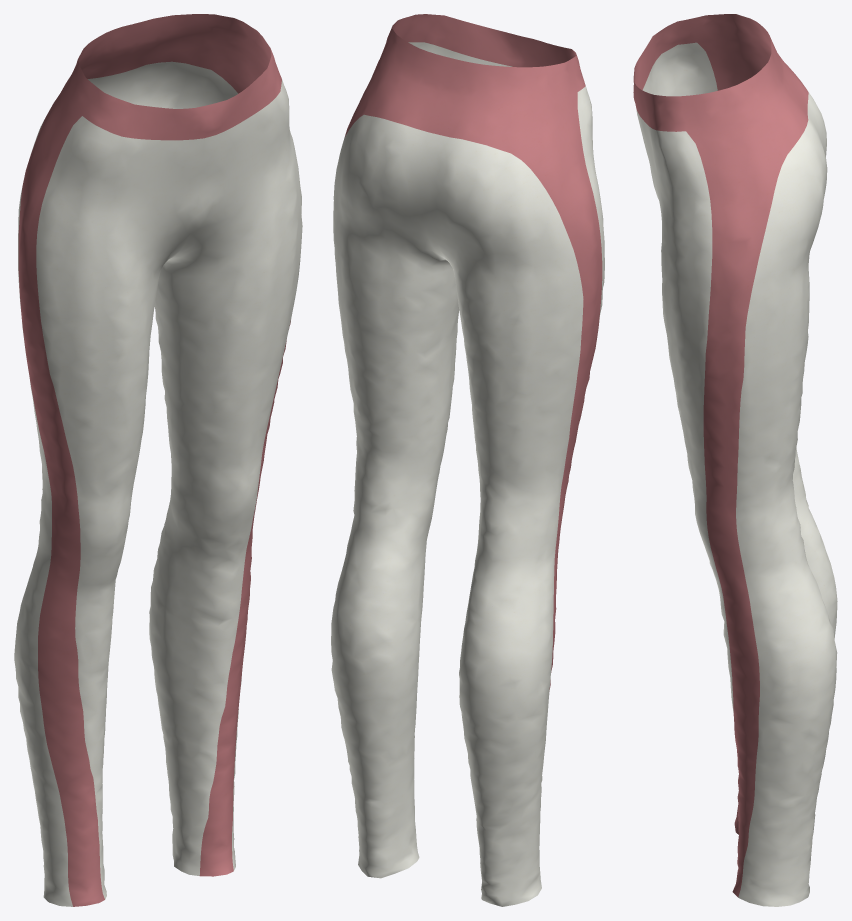
The picture shows the model from 3 angles, left to right: view 1: azimuth 30°, elevation 25°; view 2: azimuth 150°, elevation 25°; view 3: azimuth 270°, elevation 25°; orthographic projection. The views are drawn at different scales.
Parts seen in each view (by area): view 1: BodyBottom; view 2: BodyBottom; view 3: BodyBottom.
Part boxes in pixels (left/top/right/bottom): BodyBottom: left=14, top=14, right=302, bottom=906; BodyBottom: left=331, top=14, right=604, bottom=906; BodyBottom: left=633, top=14, right=837, bottom=906.
Bounding box in the file's own units: 0.2992 × 0.9136 × 0.2061.
5 materials, 5 textured.
